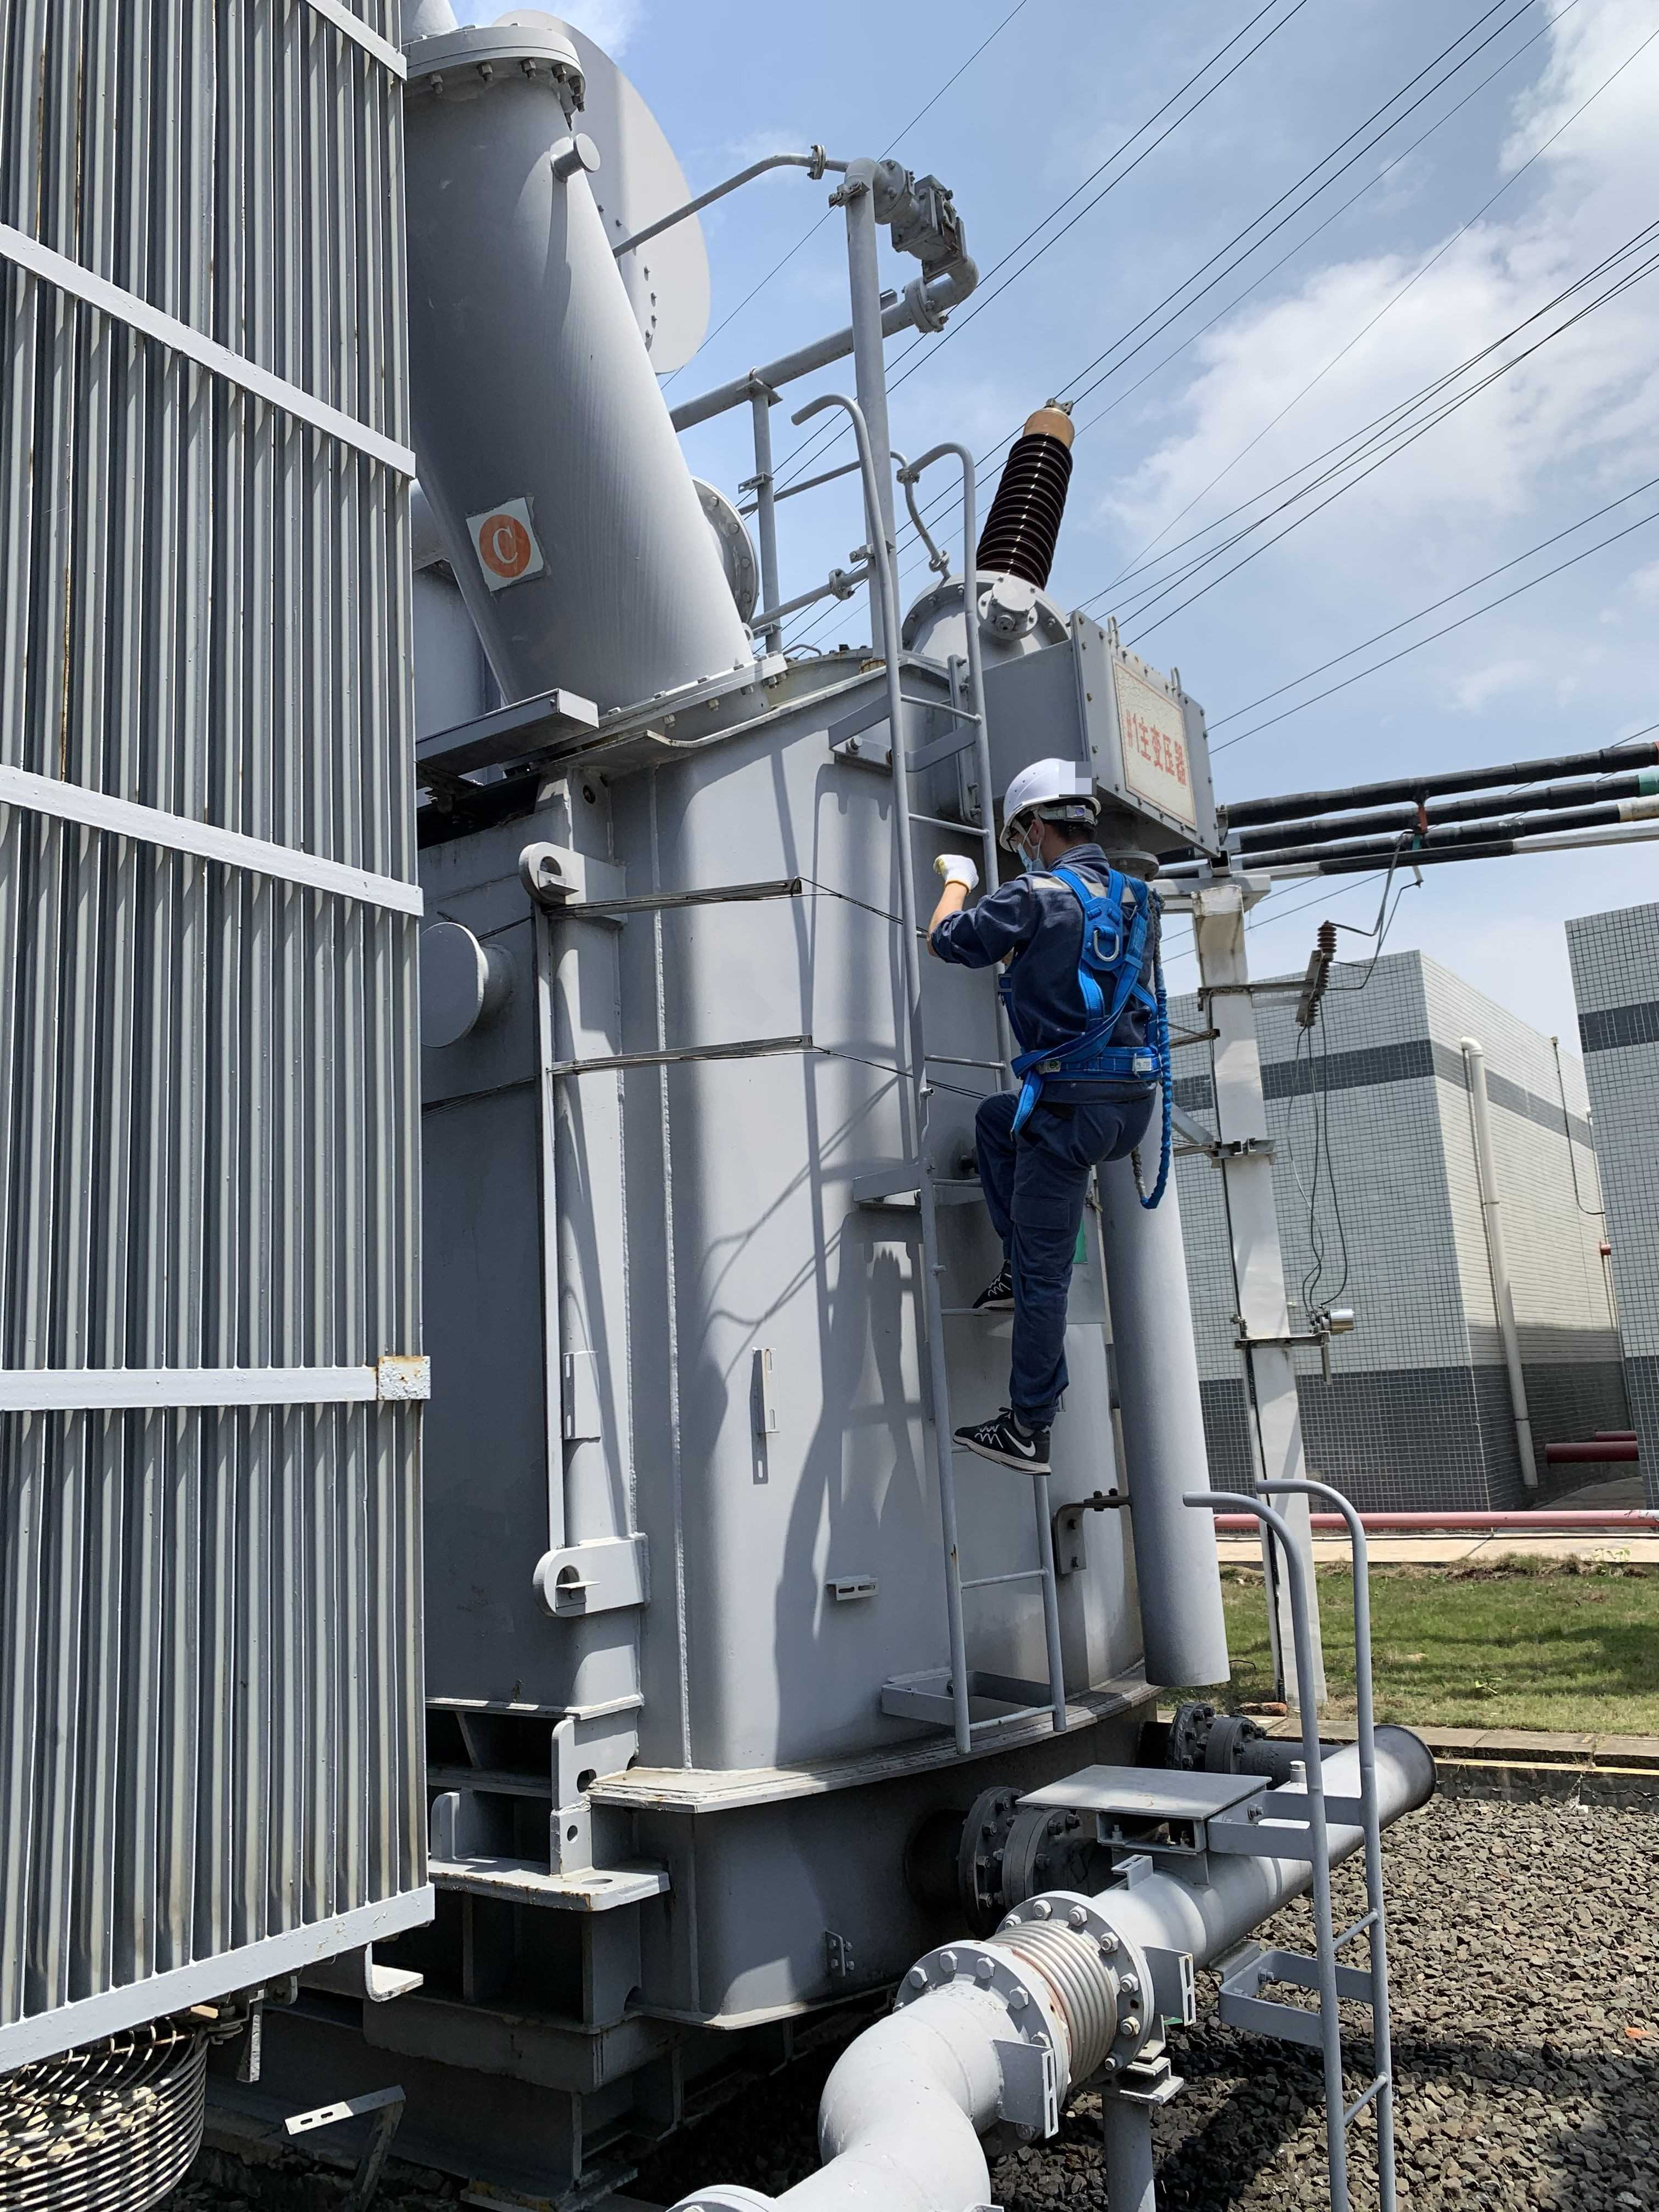downsuit: (972, 1103, 1159, 1413)
upsuit: (946, 853, 1180, 1083)
wrongtop: (929, 873, 983, 953)
